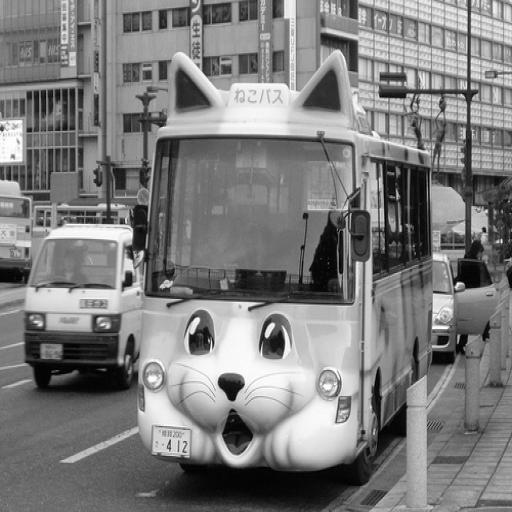bus: (136, 48, 433, 484), (31, 201, 134, 236), (0, 179, 31, 274)
car: (22, 222, 144, 388), (430, 249, 498, 363)
person: (454, 239, 492, 355)
